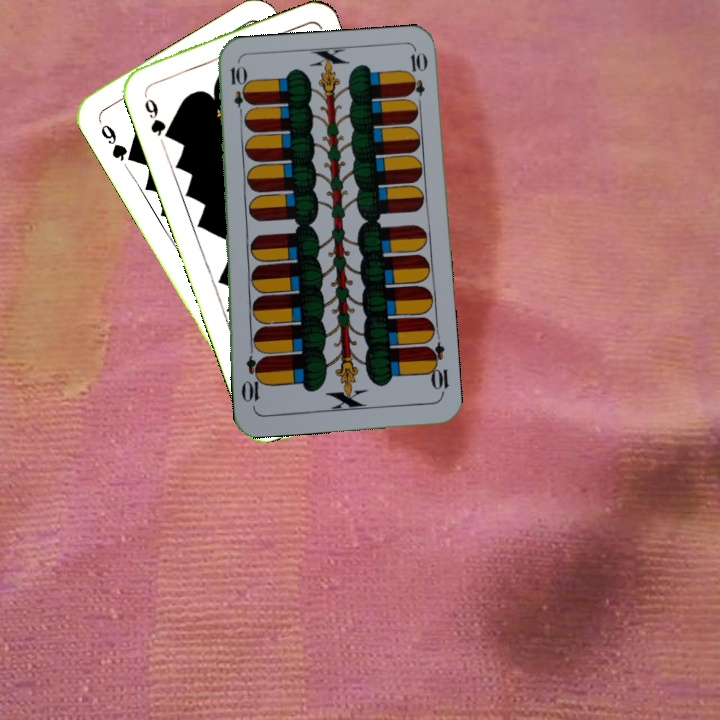E10: (422, 339, 451, 398), (226, 62, 248, 121)
G9: (94, 116, 138, 165), (140, 94, 174, 142)
